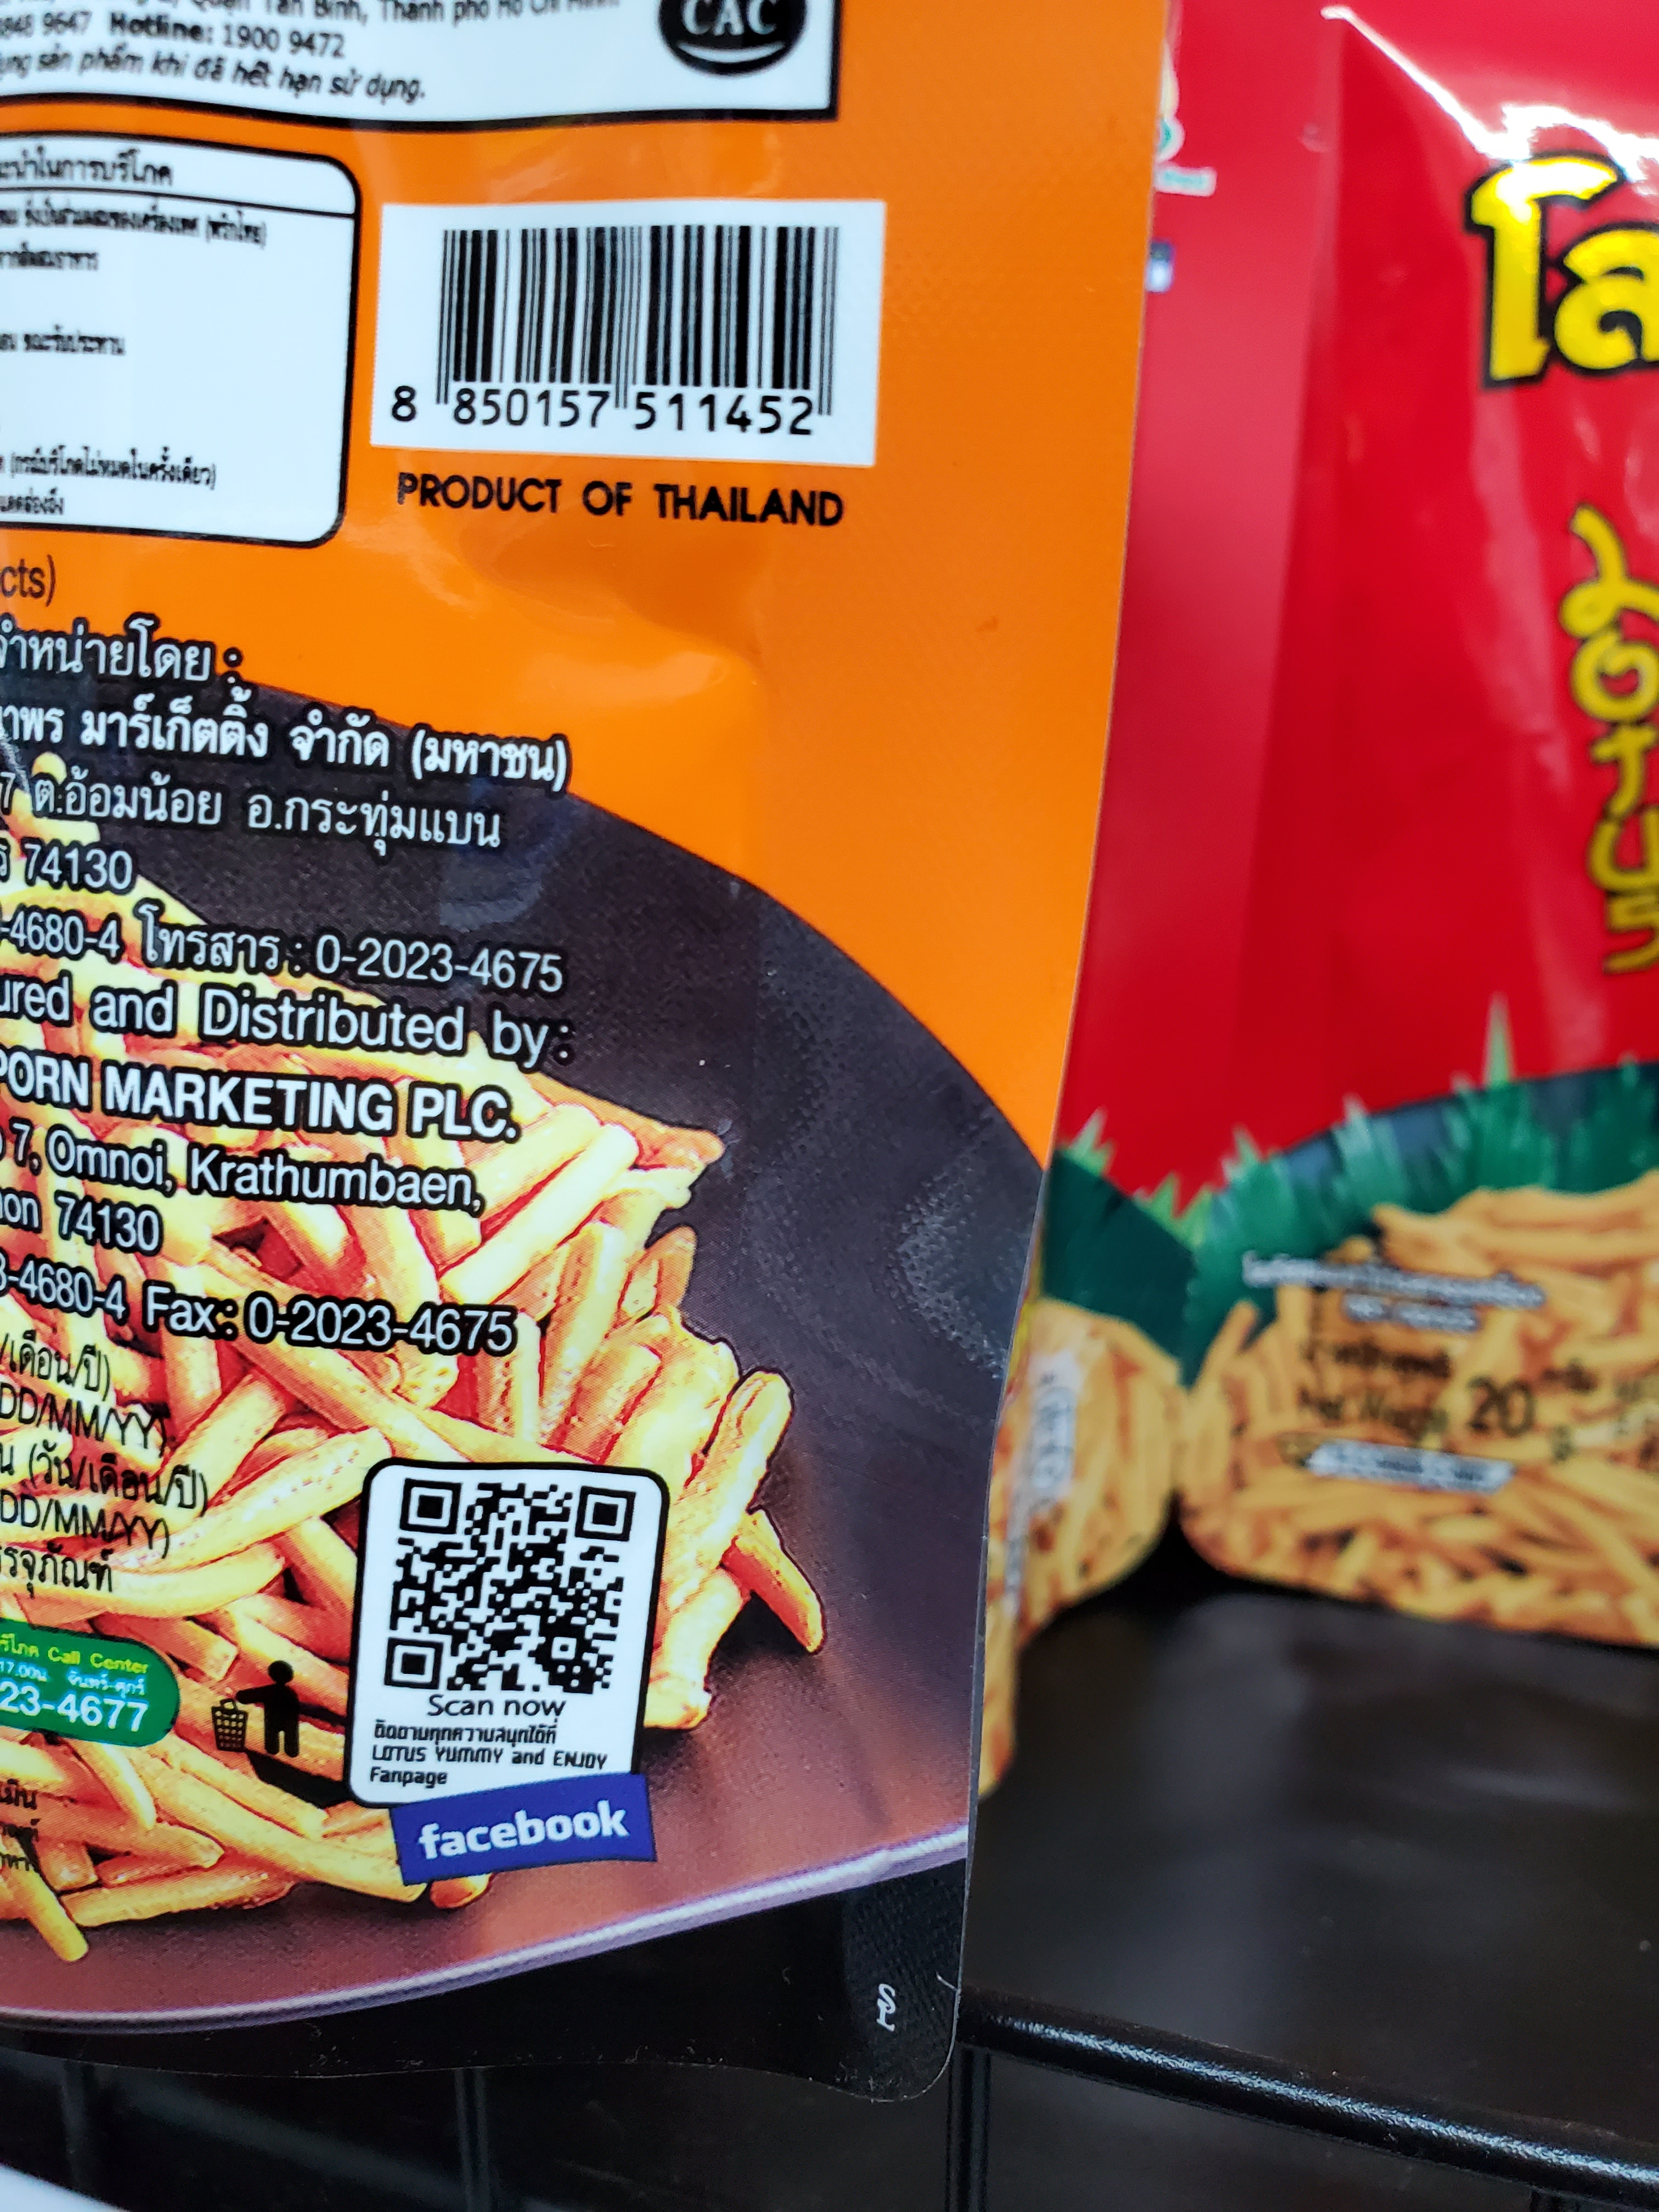barcode: (369, 202, 877, 456)
qr code: (371, 1467, 641, 1724)
